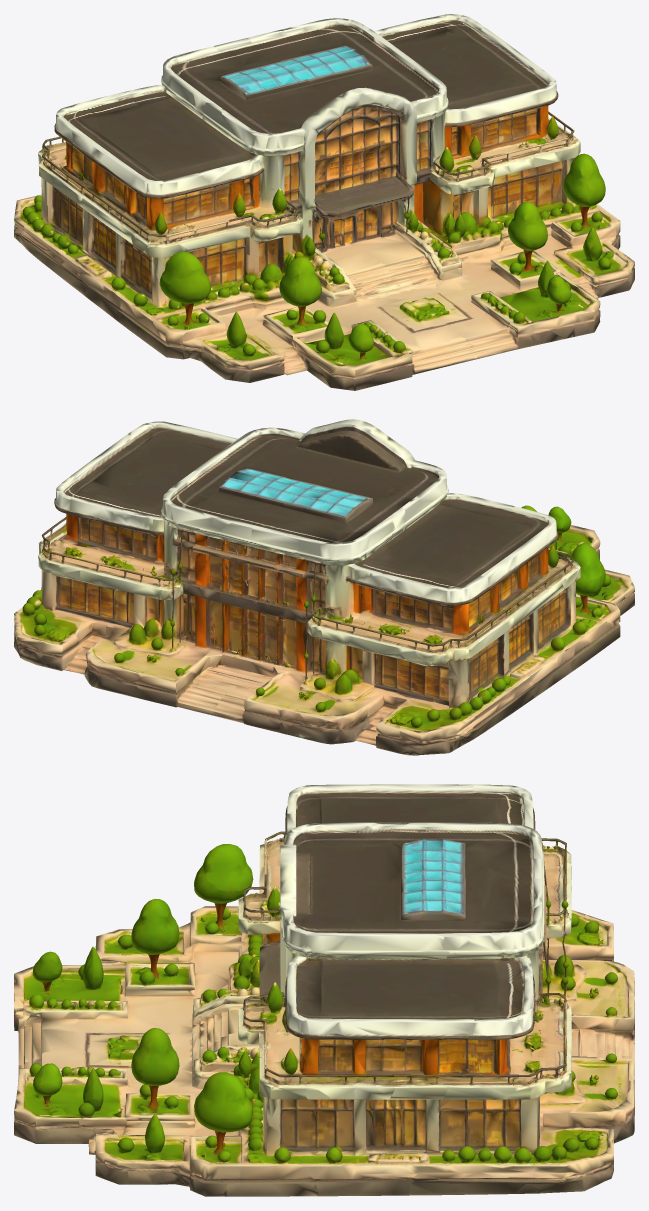
File: crescent-courtyard.glb
3 views of the same model, one above another, from view 1: azimuth 30°, elevation 25°; view 2: azimuth 150°, elevation 25°; view 3: azimuth 270°, elevation 25° (orthographic). The views are drawn at different scales.
Size of the model in its own units: 1.88 by 0.7359 by 1.9.
1 material, 1 textured.
